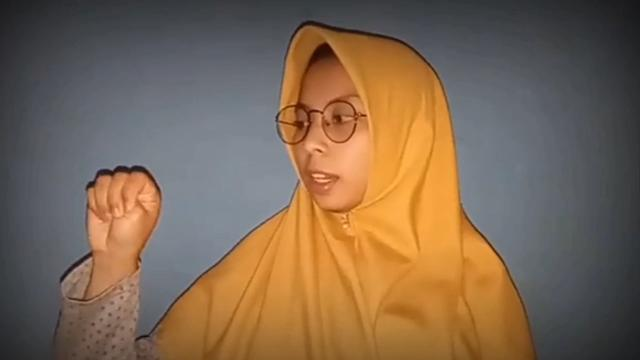E: (82, 168, 162, 256)
